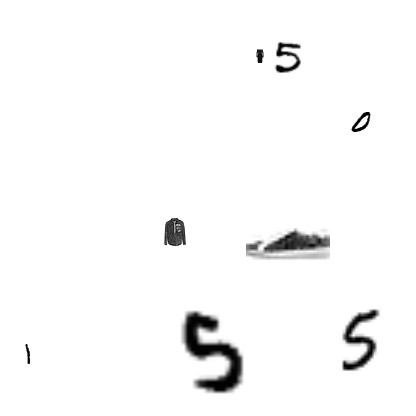0: (347, 108, 375, 136)
1: (14, 340, 42, 368)
5: (154, 296, 266, 408), (316, 298, 400, 382), (266, 35, 308, 77)
Dress: (253, 49, 267, 63)
Shirt: (161, 218, 189, 246)
Sneaker: (246, 202, 330, 286)
